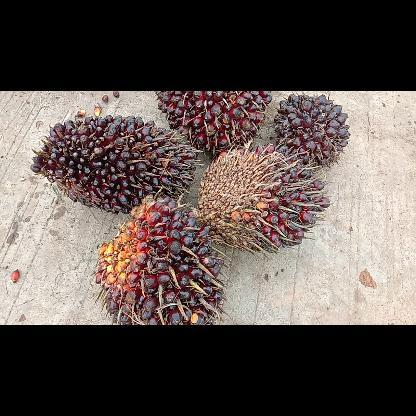TBS mentah: (30, 114, 200, 214), (96, 196, 228, 324), (199, 146, 332, 254), (154, 90, 272, 156), (270, 92, 350, 168)
